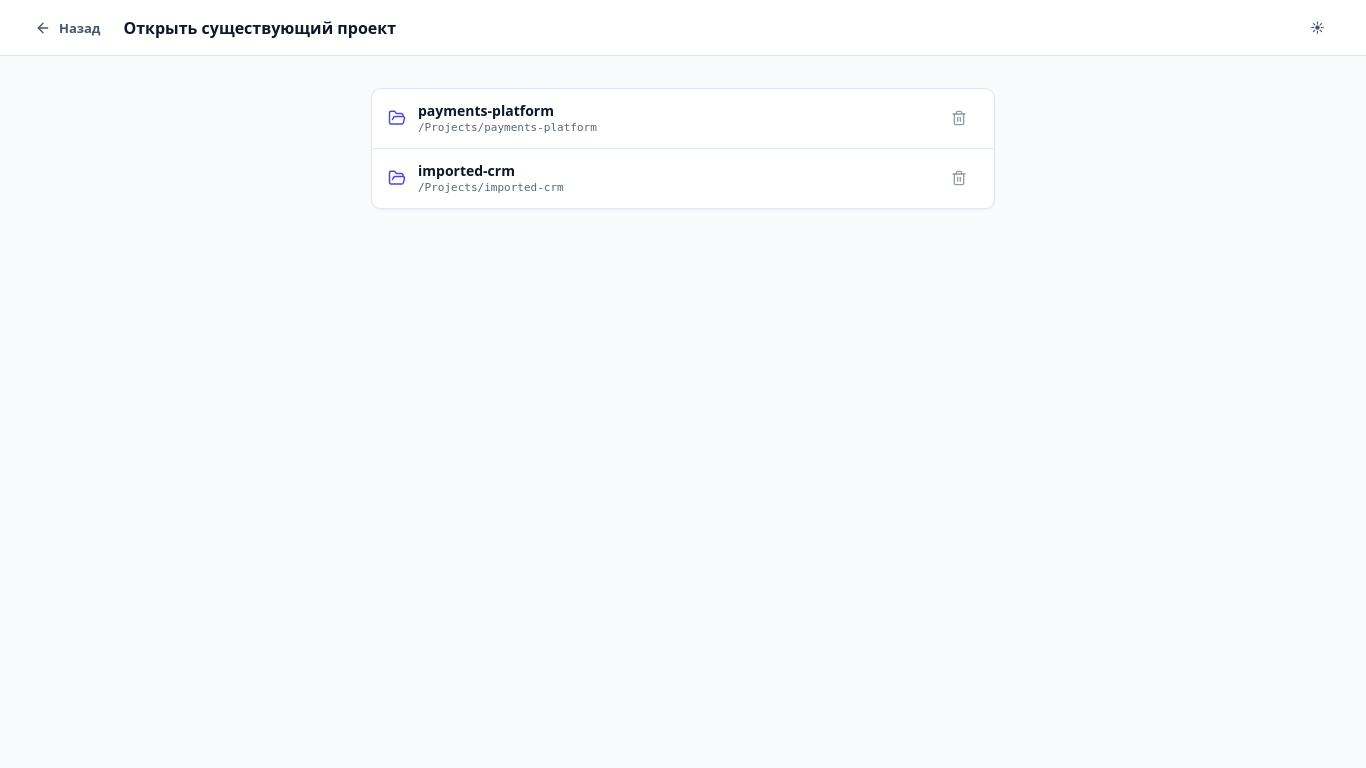
Test: OpenExisting — удаление с подтверждением вводом имени (§2.4-1/-4, todo_17 T2) › opens the dialog; confirm is disabled until the exact name is typed
The width and height of the screenshot is (1366, 768).
Expected: the list with test id "open-list" is shown, [371,88,995,209]
Step 1. Click the button with test id "project-delete-payments-platform" → (959, 118), box [940,103,978,133]
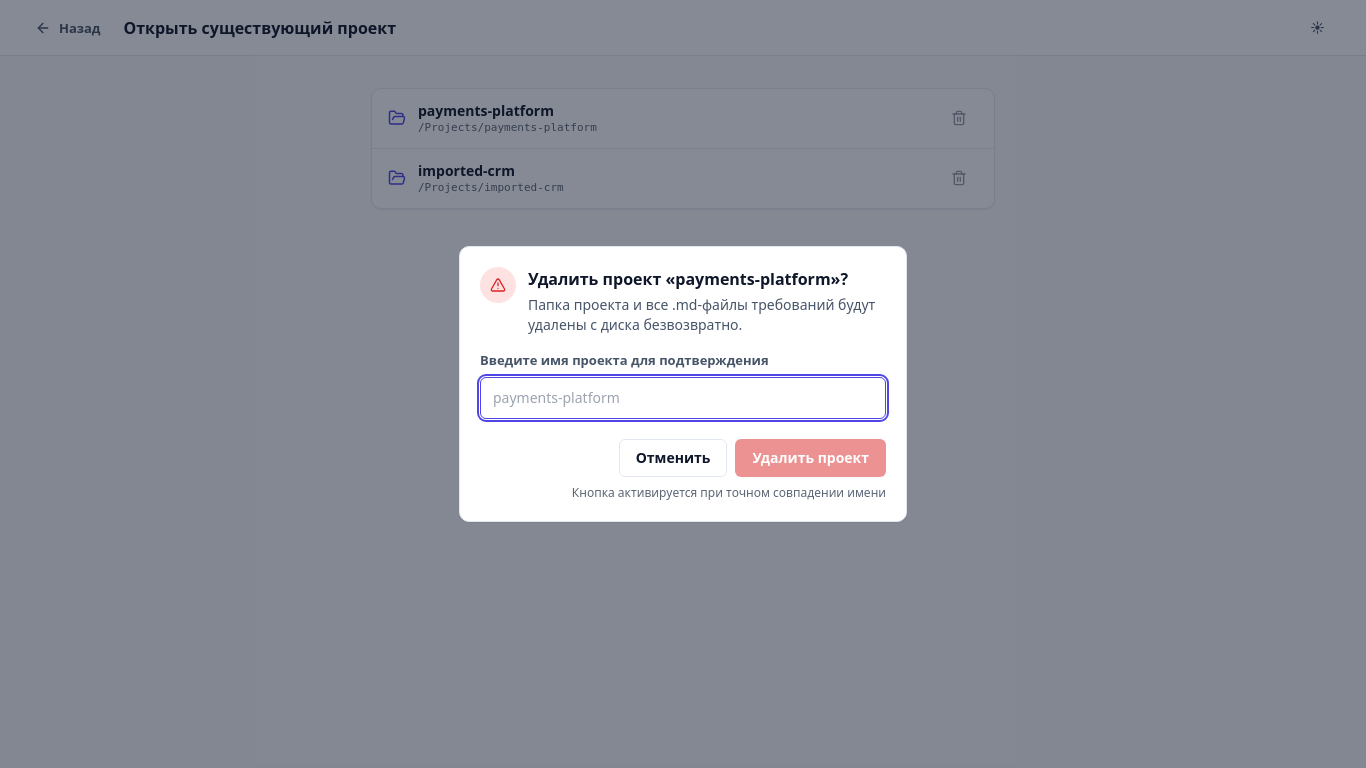
Expected: the dialog with test id "project-delete-dialog" shows "Удалить проект «payments-platform»?", [528,268,848,290]
Expected: the text with test id "project-delete-dialog-message" reads "Папка проекта и все .md-файлы требований будут удалены с диска безвозвратно.", [528,295,875,334]
Expected: the dialog with test id "project-delete-dialog" shows "Кнопка активируется при точном совпадении имени", [572,484,886,501]
Step 2. Type "не то имя" into the field with test id "delete-confirm-input" → (683, 398), box [480,377,886,419]
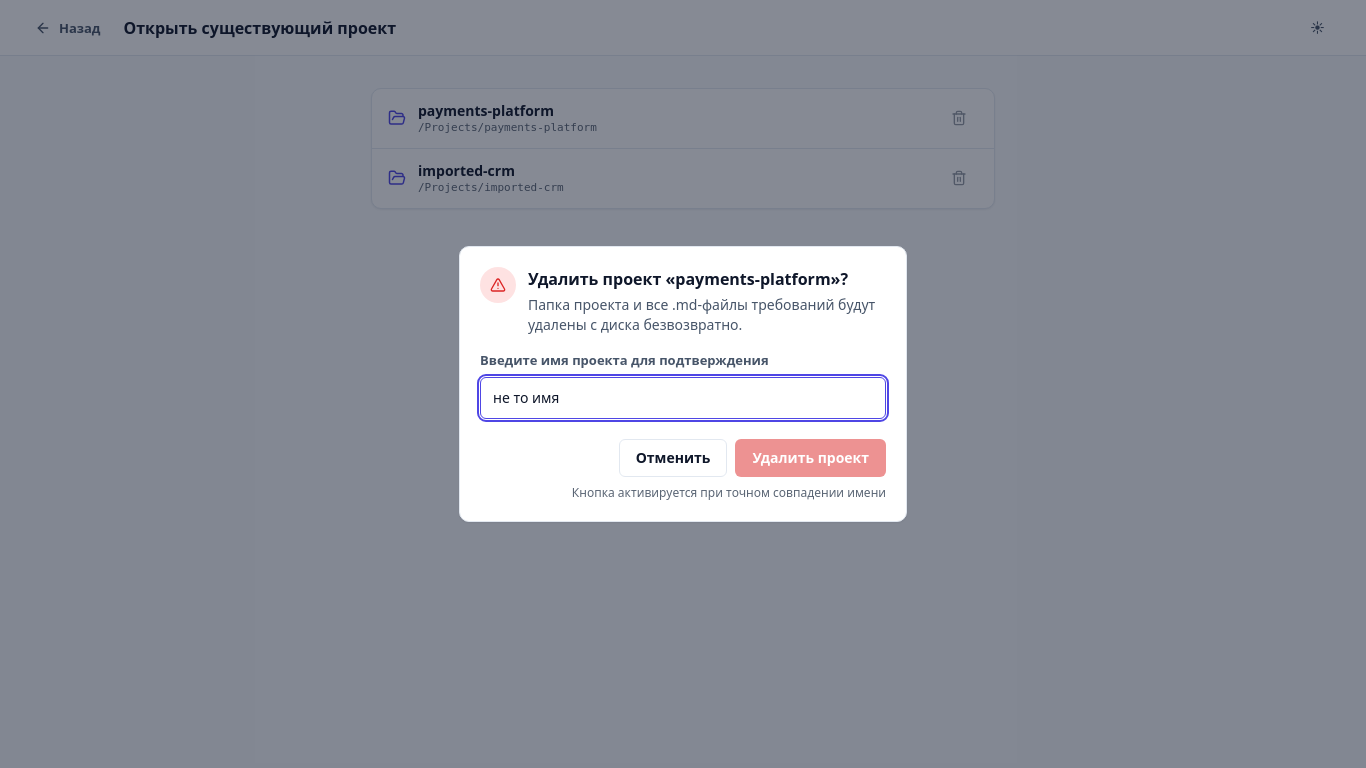
Expected: the button with test id "project-delete-dialog-confirm" is disabled, [735,439,886,477]
Step 3. Replace the text in the field with test id "delete-confirm-input" with "payments-platform" → (683, 398), box [480,377,886,419]
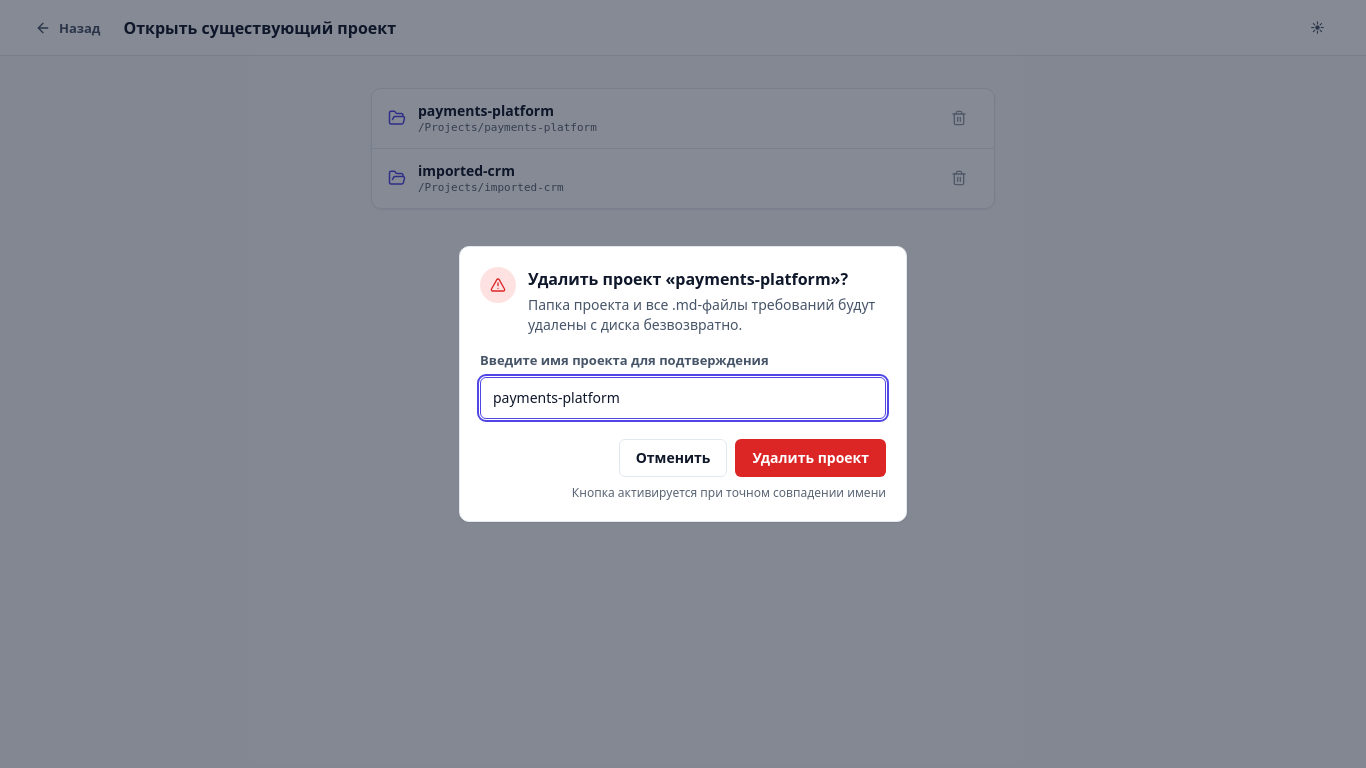
Expected: the button with test id "project-delete-dialog-confirm" is enabled, [735,439,886,477]
